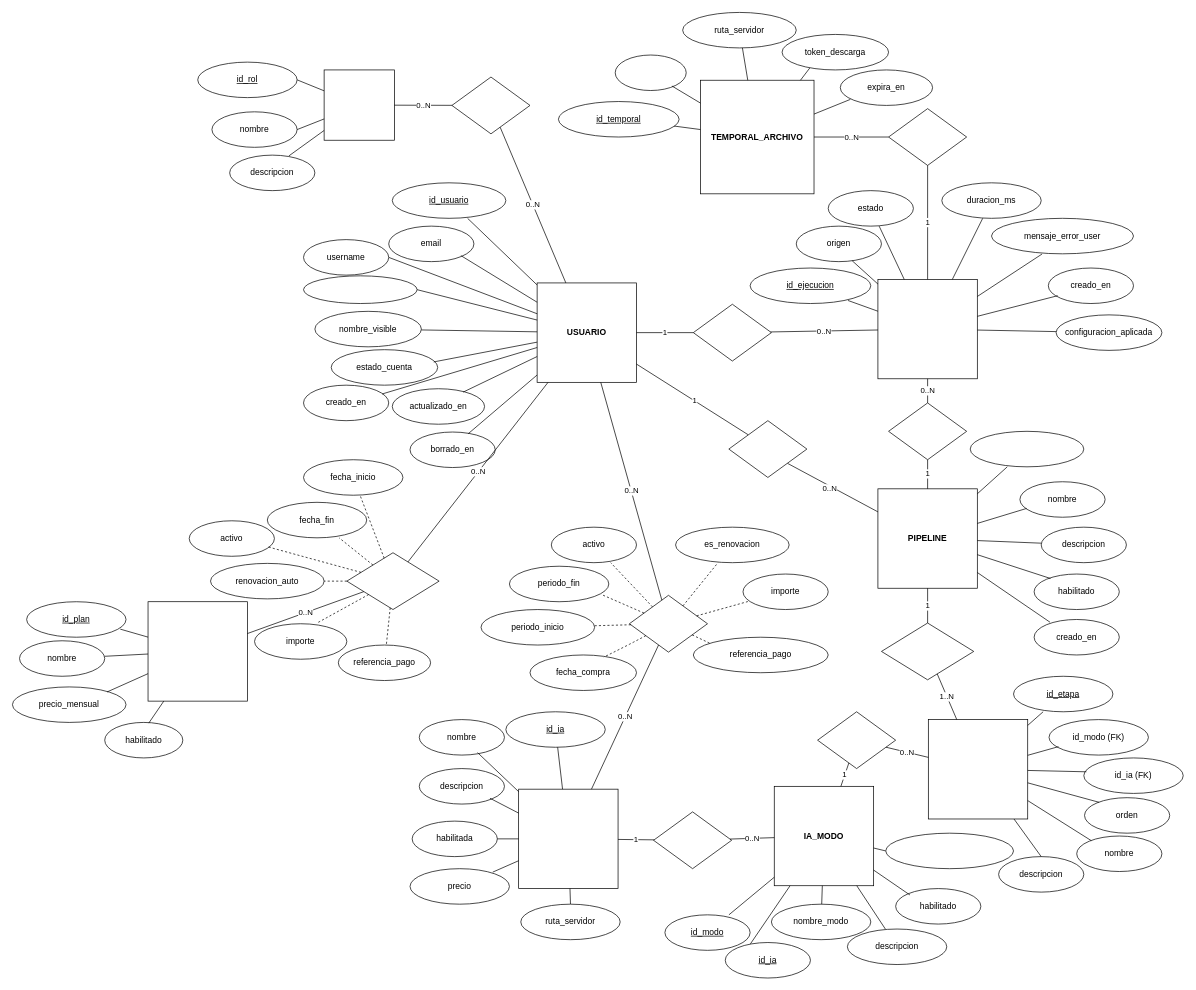
Some shapes in this 1196 by 990 pixel diagram are drawn without their labels. Here are the shapes that lost their labels. From the top down, the box of each, then its label:
(615, 54, 686, 91): tipo
(323, 69, 394, 140): ROL
(451, 76, 530, 134): TIENE
(888, 108, 967, 165): GENERA
(303, 275, 417, 304): password_hash
(693, 304, 771, 361): REALIZA
(877, 279, 977, 379): EJECUCION
(728, 420, 807, 477): CREA
(888, 402, 967, 460): SOBRE
(970, 431, 1084, 467): id_pipeline
(346, 552, 439, 610): SUSCRIBE
(629, 595, 708, 652): ALQUILA
(147, 601, 247, 701): TIPO_PLAN
(881, 622, 974, 680): COMPONE
(817, 711, 896, 769): USA
(928, 719, 1028, 819): PIPELINE_ETAPA
(518, 788, 618, 889): IA_MODELO
(653, 811, 732, 869): DEFINE
(885, 832, 1014, 869): configuracion_predeterminada
